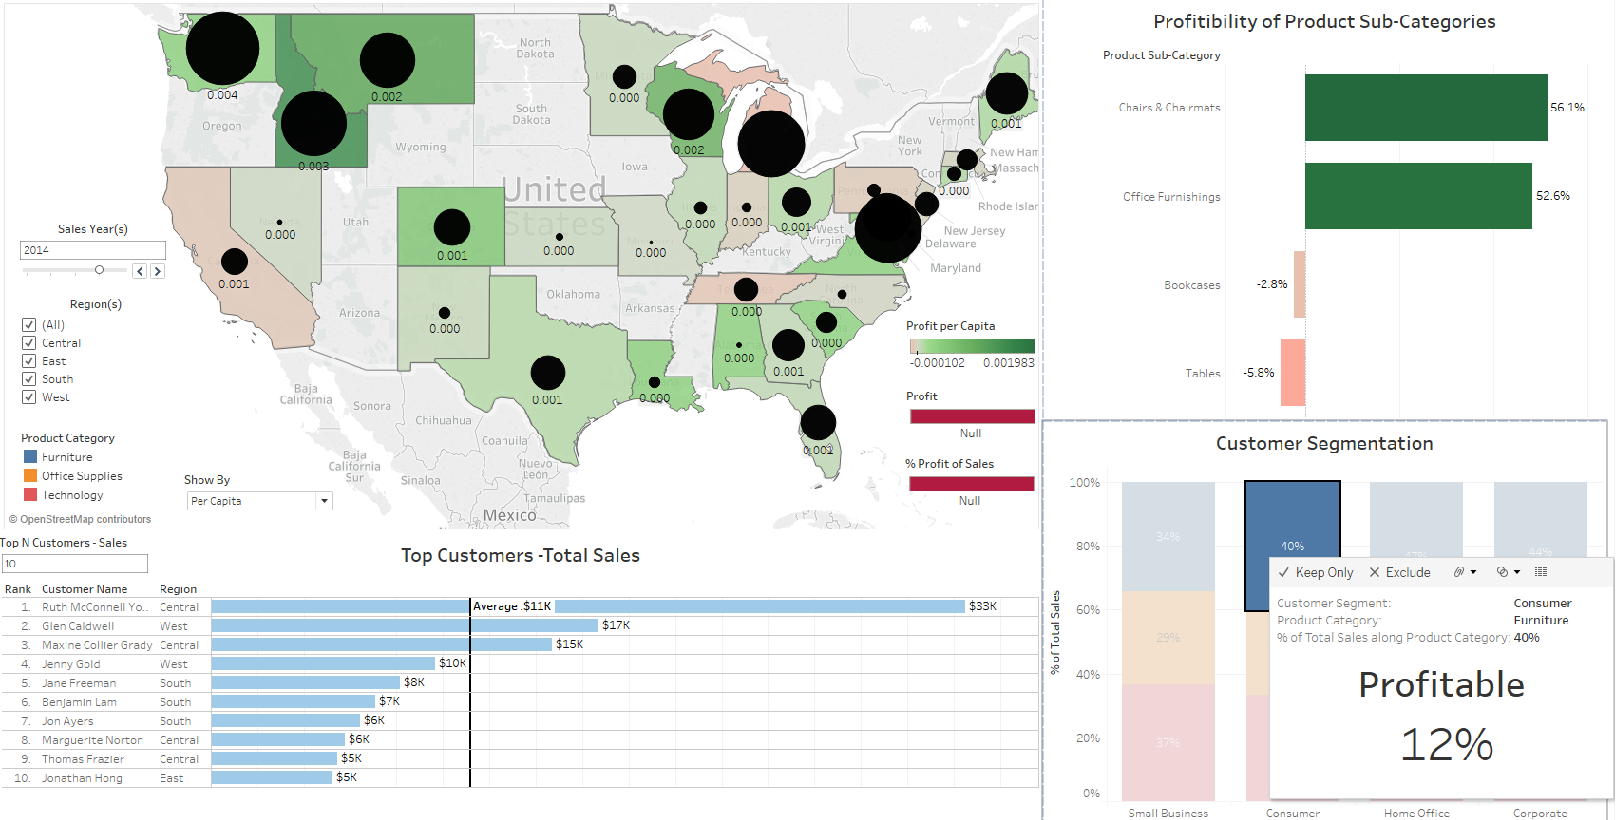

The dashboard page shown, as its layout file describes it:
{"tool":"tableau","page":{"name":"Assessment 3 - Dashboard","canvas":[1000,1000],"units":"permille","ordinal":0},"visuals":[{"type":"worksheet","title":"Profitable","mark":"Automatic","box":[4.7,8.8,0.6,621.6]},{"type":"worksheet","title":"Total Sales","mark":"Automatic","box":[5.3,8.8,0.6,621.6]},{"type":"worksheet","title":"Per Capita","mark":"Automatic","box":[5.9,8.8,642.4,621.6]},{"type":"worksheet","title":"Profitibility of Product Sub-Categories","mark":"Automatic","rows":["Product Sub-Category"],"cols":["Profit"],"box":[648.3,8.8,347,491.2]},{"type":"filter","title":"Customer Segmentation","param":"[federated.1vdtpcq09alfia0zlsv5y04r5ajv].[yr:Order Date:ok]","box":[16.4,266.6,93.6,74.1]},{"type":"filter","title":"Customer Segmentation","param":"[federated.1vdtpcq09alfia0zlsv5y04r5ajv].[none:Region:nk]","box":[15.8,354,98.3,140.5]},{"type":"legend","title":"Per Capita","param":"[federated.1vdtpcq09alfia0zlsv5y04r5ajv].[usr:Calculation_867224409597616128:qk]","box":[564.1,379.4,81.9,84.1]},{"type":"legend","title":"Total Sales","param":"[federated.1vdtpcq09alfia0zlsv5y04r5ajv].[sum:Profit:qk]","box":[564.1,461.3,81.9,84.1]},{"type":"worksheet","title":"Customer Segmentation","mark":"Automatic","cols":["Customer Segment"],"box":[648.3,500,347,491.2]},{"type":"legend","title":"Customer Segmentation","param":"[federated.1vdtpcq09alfia0zlsv5y04r5ajv].[none:Product Category:nk]","box":[18.7,510,81.9,86.3]},{"type":"legend","title":"Profitable","param":"[federated.1vdtpcq09alfia0zlsv5y04r5ajv].[usr:Calculation_130885870573232128:qk]","box":[563.5,539.8,81.9,84.1]},{"type":"parameter","param":"[Parameters].[Parameter 3]","box":[119.4,558.6,93.6,48.7]},{"type":"worksheet","title":"Top Customers -Total Sales","mark":"Automatic","rows":["Calculation_1109855837082505217","Customer Name","Region"],"cols":["Sales"],"box":[4.7,630.5,643.6,360.7]},{"type":"parameter","param":"[Parameters].[Parameter 1]","box":[5.3,631.6,93.6,48.7]}]}

Visuals, with their boxes on the dashboard's canvas, which has no fixed pixel size, in thousandths of its width and height (x1, y1, x2, y2). These are canvas units, not pixel positions in the 1623x820 screenshot, which may show the page scaled, cropped or inside an application window:
"Profitable" worksheet: [left=5, top=9, right=5, bottom=630]
"Total Sales" worksheet: [left=5, top=9, right=6, bottom=630]
"Per Capita" worksheet: [left=6, top=9, right=648, bottom=630]
"Profitibility of Product Sub-Categories" worksheet: [left=648, top=9, right=995, bottom=500]
"Customer Segmentation" filter: [left=16, top=267, right=110, bottom=341]
"Customer Segmentation" filter: [left=16, top=354, right=114, bottom=494]
"Per Capita" legend: [left=564, top=379, right=646, bottom=464]
"Total Sales" legend: [left=564, top=461, right=646, bottom=545]
"Customer Segmentation" worksheet: [left=648, top=500, right=995, bottom=991]
"Customer Segmentation" legend: [left=19, top=510, right=101, bottom=596]
"Profitable" legend: [left=564, top=540, right=645, bottom=624]
parameter: [left=119, top=559, right=213, bottom=607]
"Top Customers -Total Sales" worksheet: [left=5, top=630, right=648, bottom=991]
parameter: [left=5, top=632, right=99, bottom=680]
